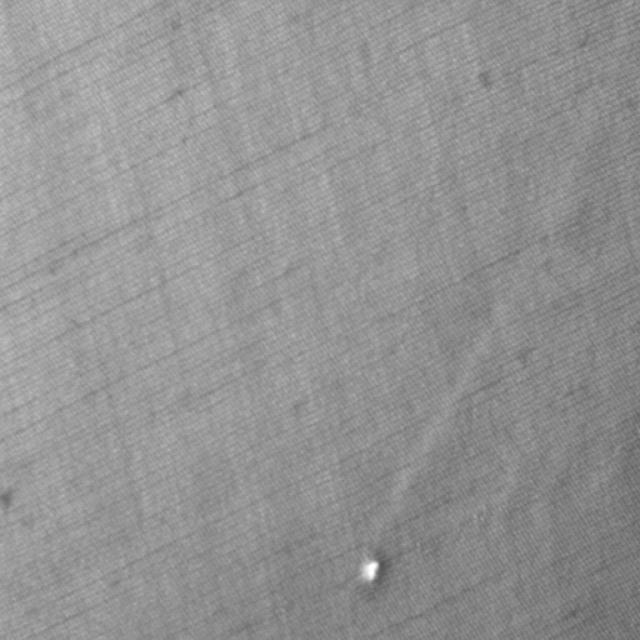hole: (358, 554, 382, 588)
